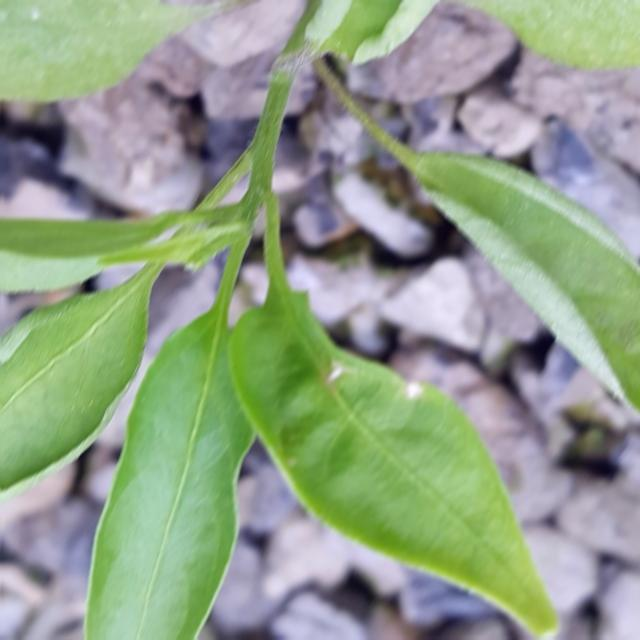Tomato leaf: (225, 291, 583, 640), (57, 264, 292, 640), (385, 138, 640, 450), (0, 0, 202, 110), (459, 0, 640, 80)
